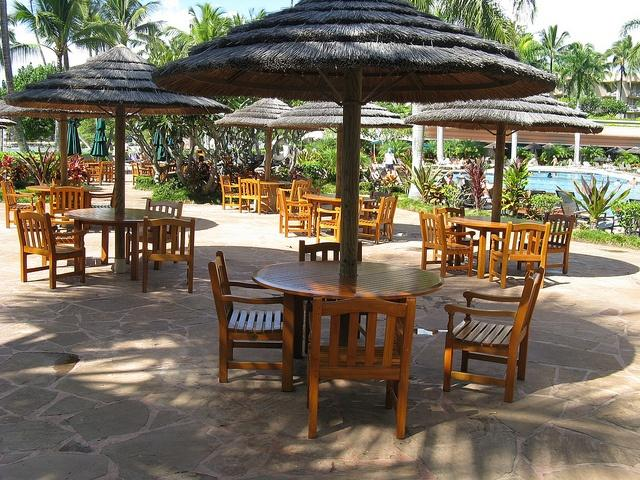Kursi: (306, 295, 416, 439), (440, 266, 544, 402), (207, 250, 293, 392), (13, 208, 85, 288), (486, 220, 550, 286), (141, 215, 195, 291), (418, 210, 475, 277)
